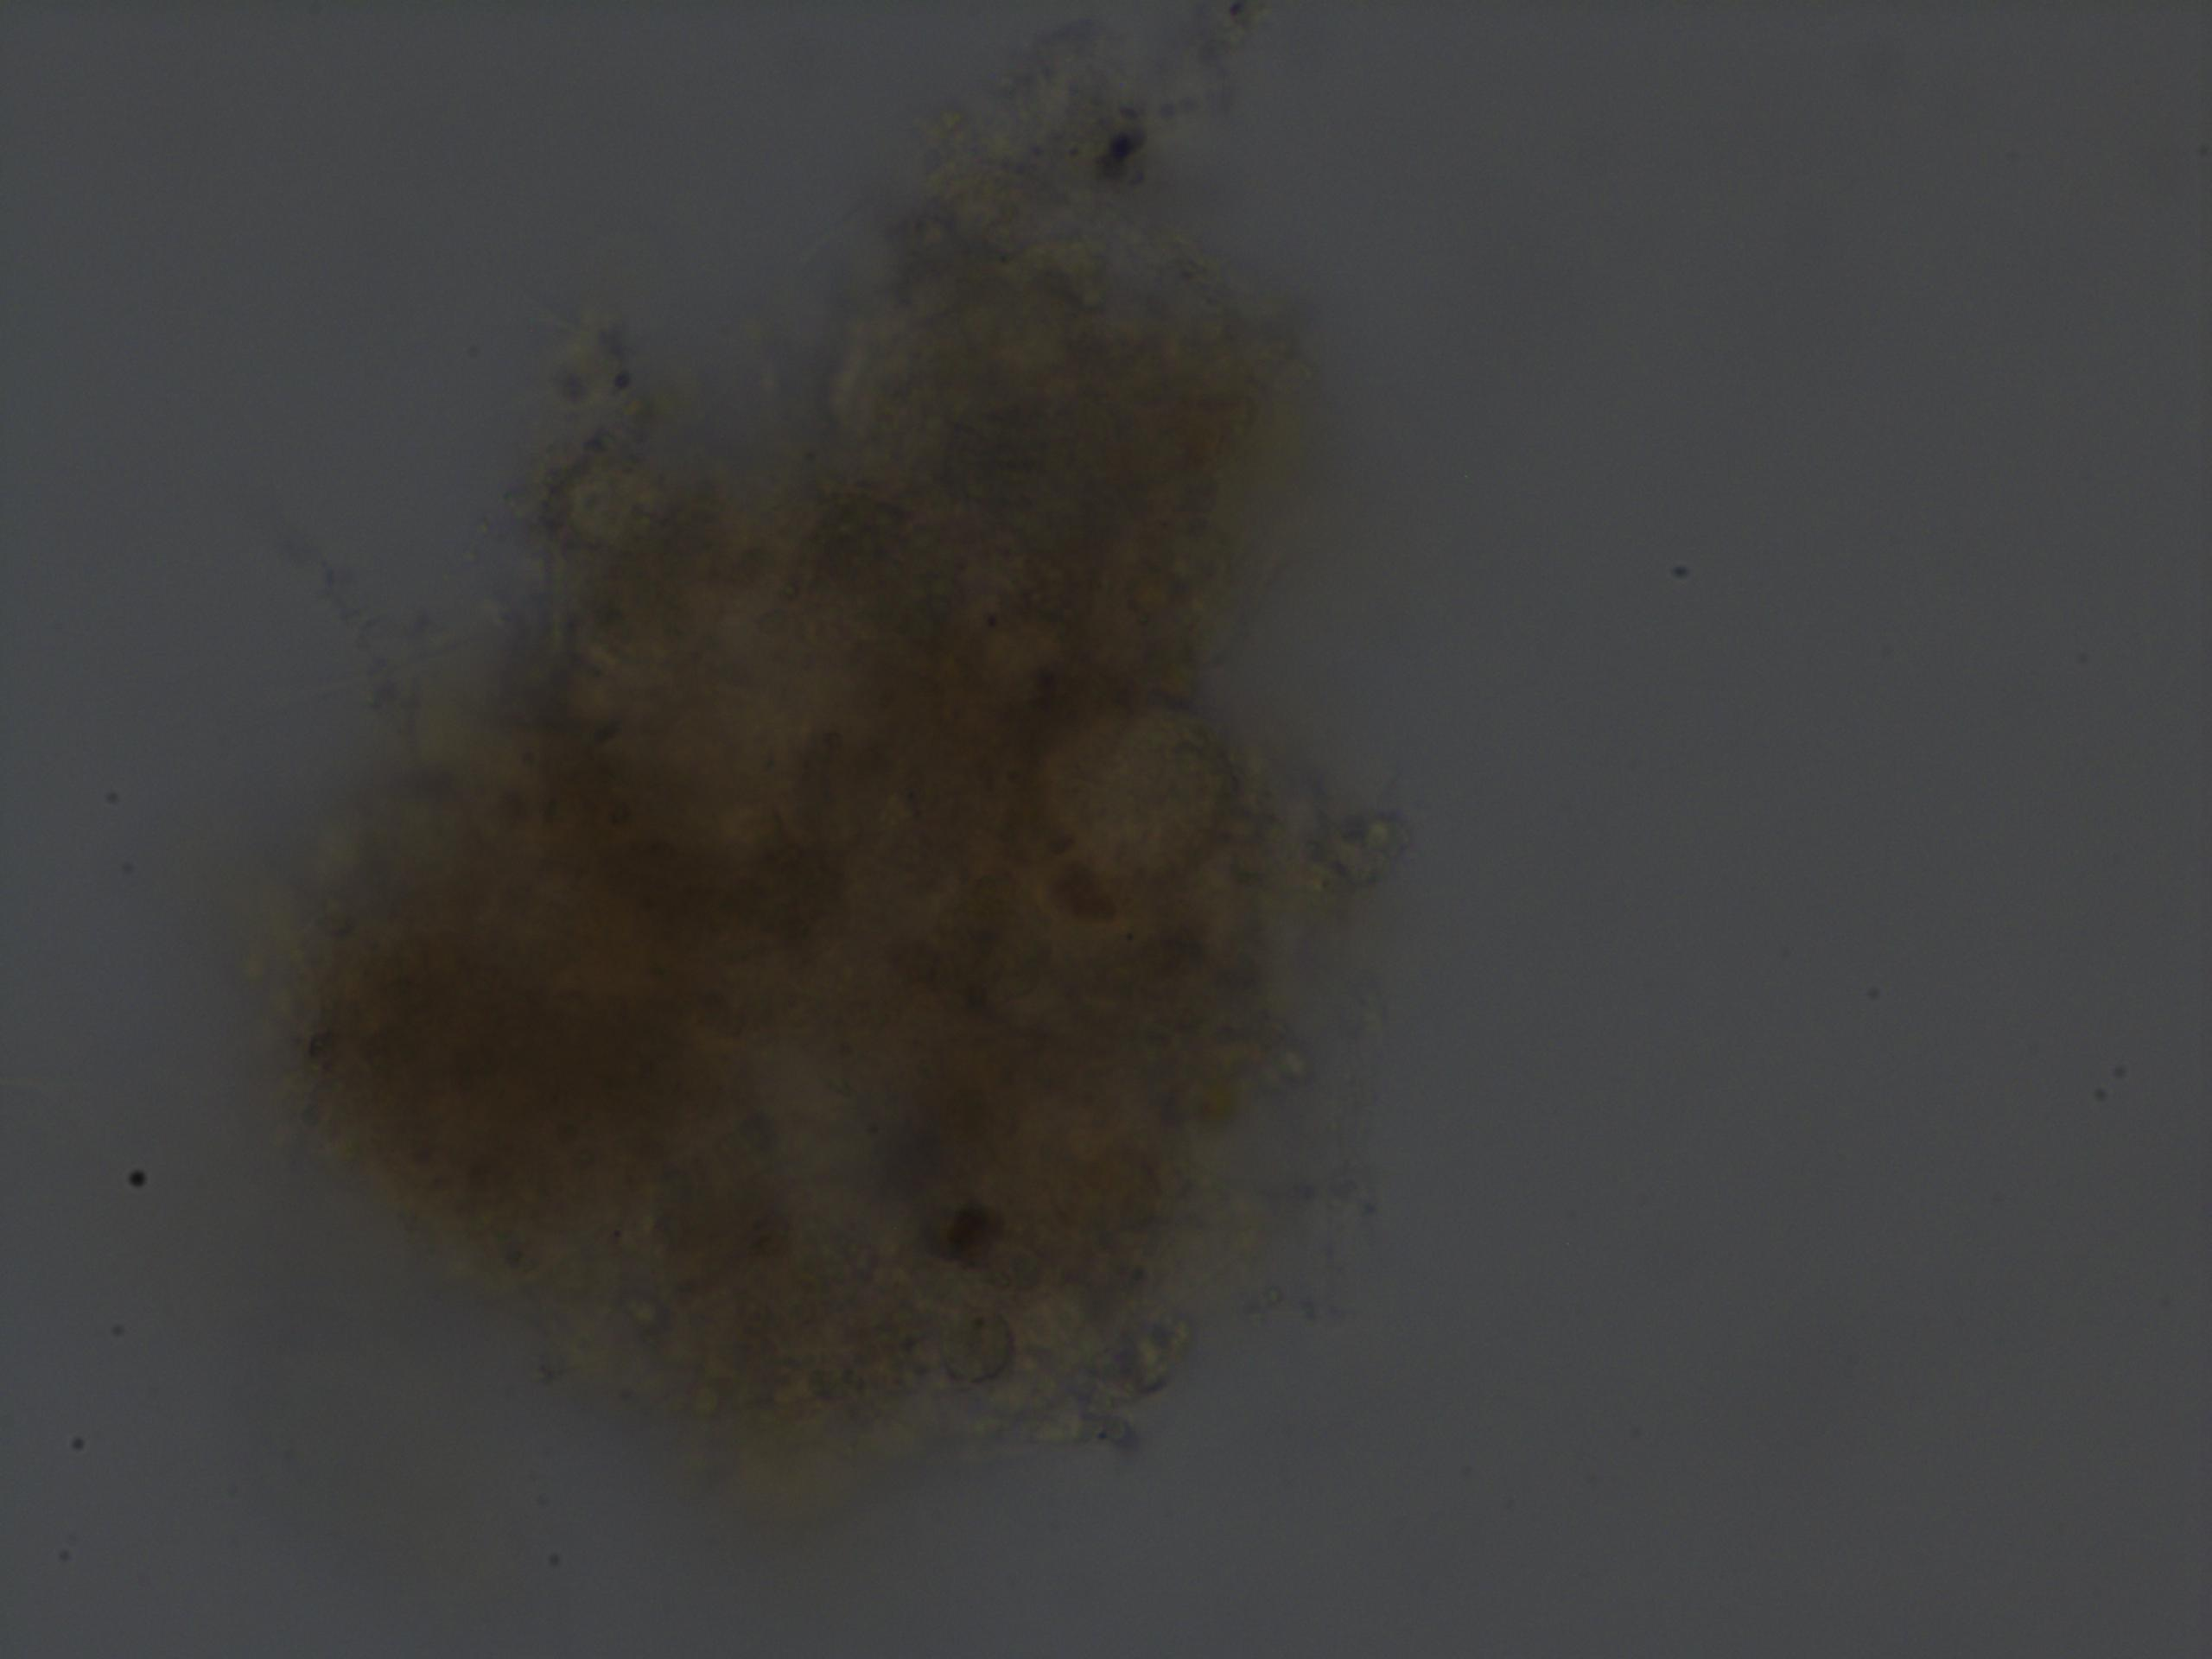spherical_floc: (247, 145, 1420, 1495)
